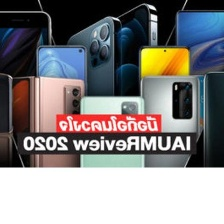phone: (77, 1, 161, 147), (0, 7, 51, 178), (172, 6, 224, 165), (134, 74, 203, 190), (77, 90, 147, 204), (58, 11, 124, 130), (131, 40, 195, 145), (27, 74, 87, 182), (32, 43, 91, 135), (198, 68, 224, 186), (0, 68, 16, 190)
